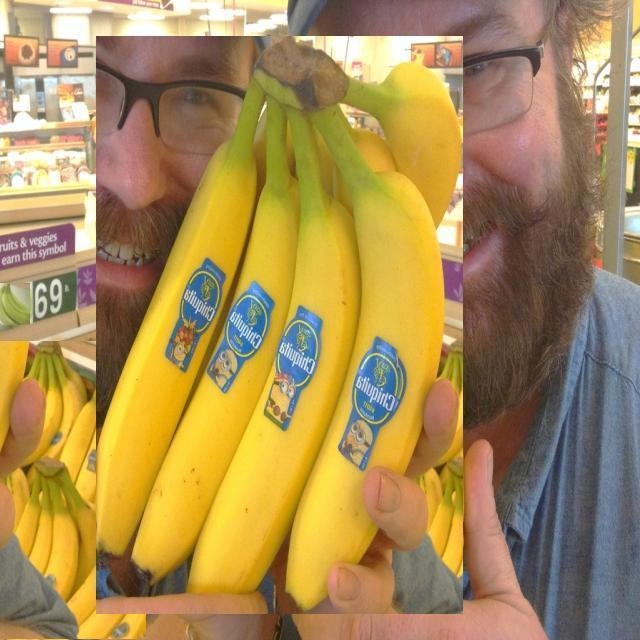Banana: (96, 36, 463, 614), (0, 341, 146, 639), (0, 282, 36, 326)
